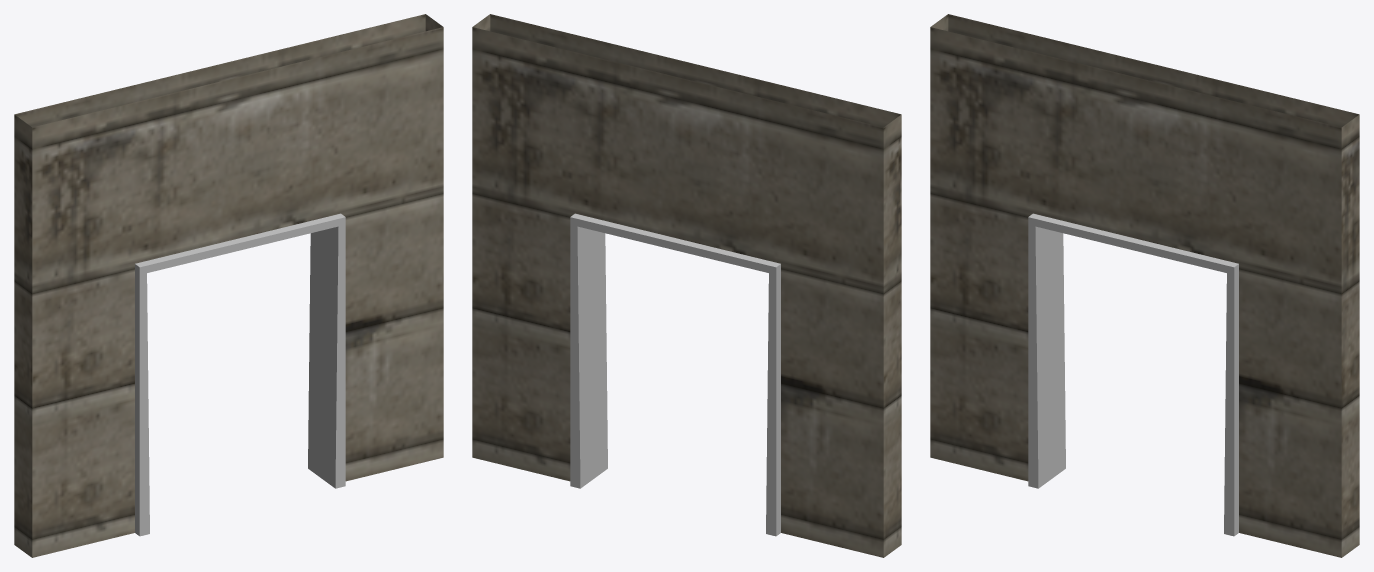
File: MO_WALL_S_DOOR_02.fbx
3 renders of one model, left to right at view 1: azimuth 30°, elevation 25°; view 2: azimuth 150°, elevation 25°; view 3: azimuth 330°, elevation 25°, orthographic.
Parts seen in each view (by area): view 1: MO_WALL_S_DOOR_02; view 2: MO_WALL_S_DOOR_02; view 3: MO_WALL_S_DOOR_02.
Boxes of the visible parts, x1,y1,x2,y2 form: MO_WALL_S_DOOR_02: (14,14,443,557); MO_WALL_S_DOOR_02: (472,14,901,557); MO_WALL_S_DOOR_02: (930,14,1359,557).
Bounding box in the file's own units: 4 × 4 × 0.464.
